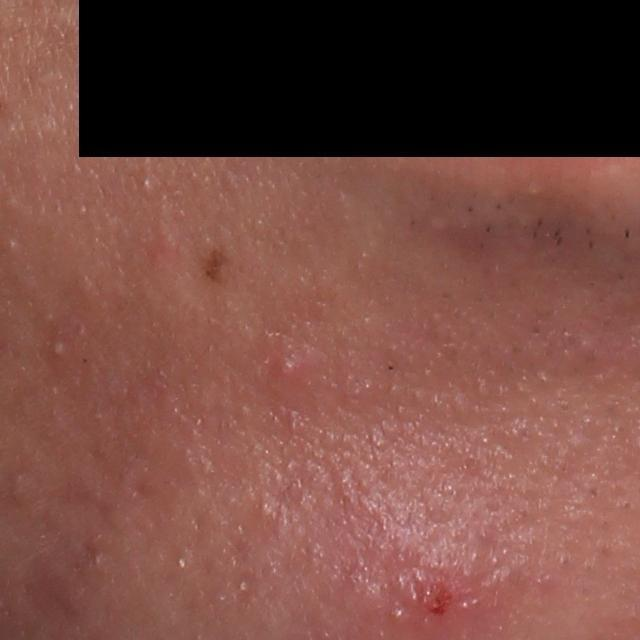comedo: (138, 175, 154, 196)
nevus: (198, 239, 230, 281)
